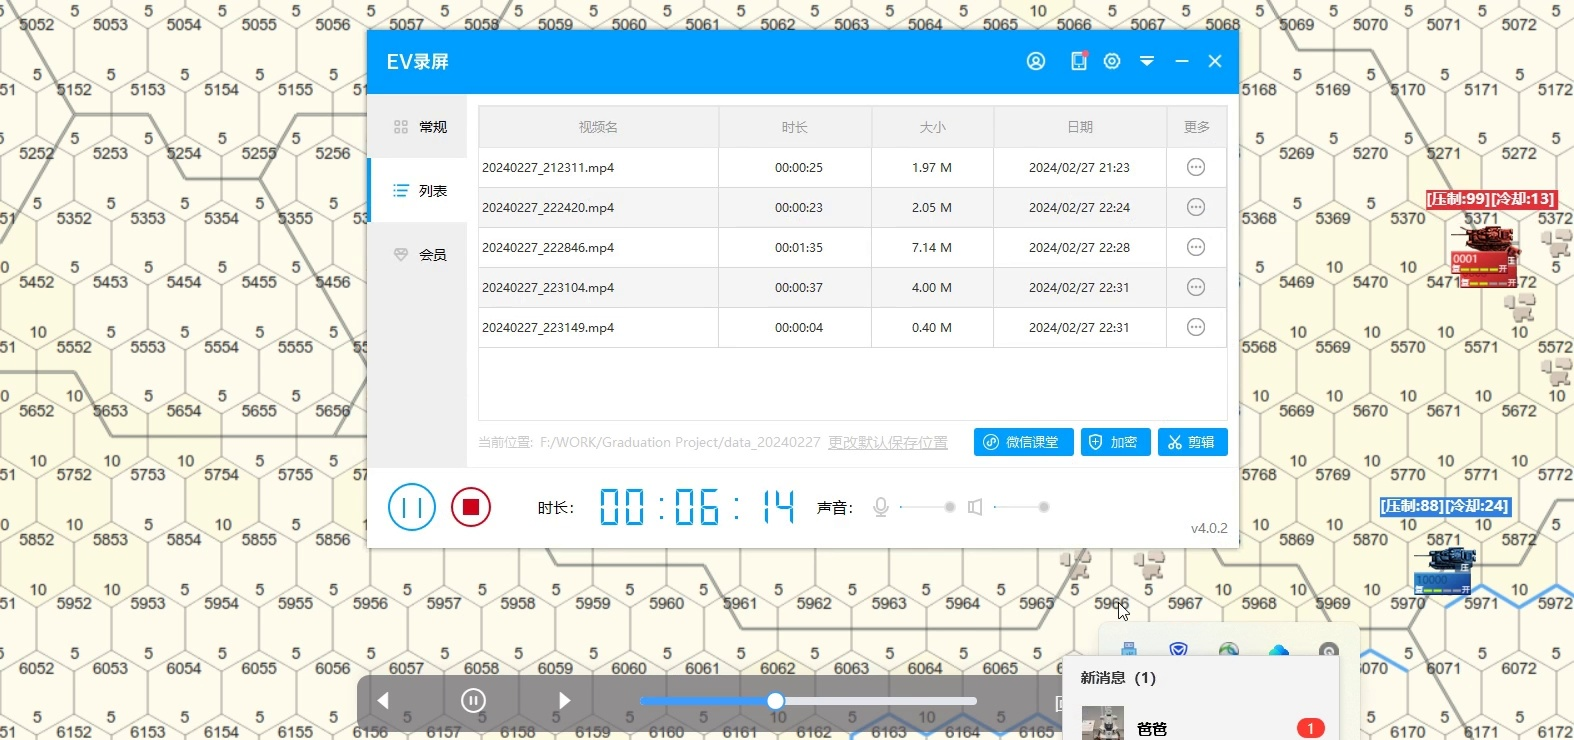blue_tank: (1422, 542, 1479, 594)
red_tank: (1451, 225, 1526, 290)
